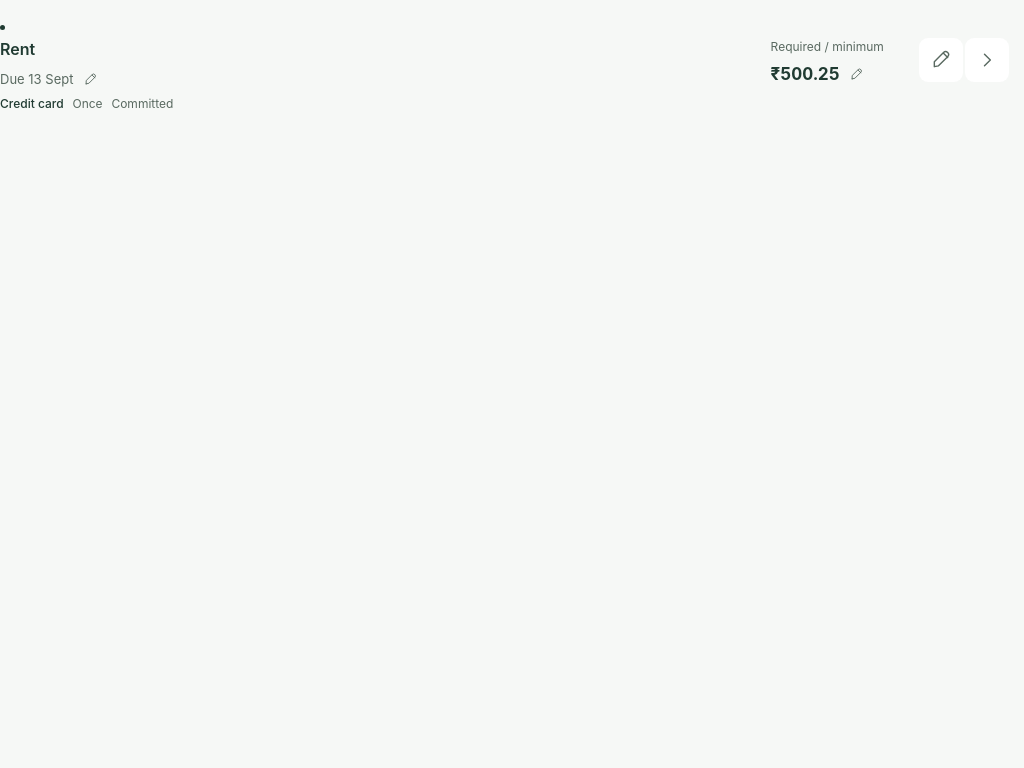
Test: keeps a debt minimum primary with absent target and outstanding in details
Check: the button named "Edit Rent required payment" reads "₹500.25", box [771,57,863,93]
Check: the text "₹25,000.99" is not shown
Click the button named "Details for Rent".
click(987, 60)  # box [965,38,1009,82]
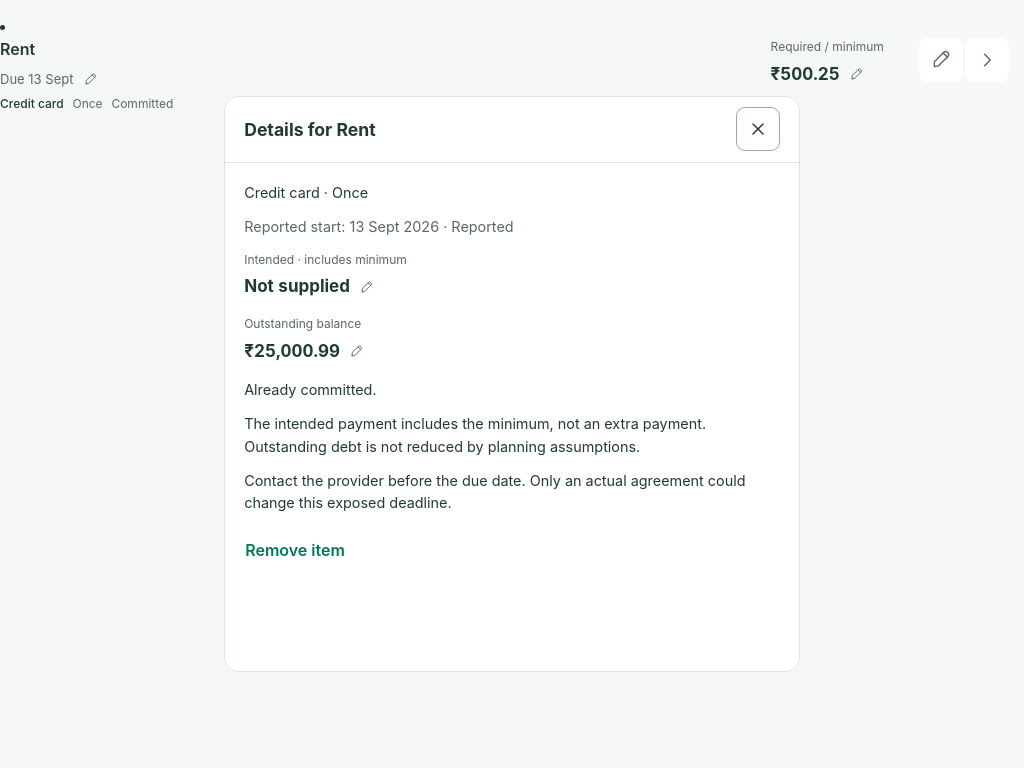
Check: the button named "Edit Rent outstanding" reads "₹25,000.99", box [244,333,363,369]
Check: the dialog "Details for Rent" shows "intended payment includes the minimum, not an extra payment", box [244,415,706,455]
Check: the dialog "Details for Rent" shows "Outstanding debt is not reduced by planning assumptions.", box [244,415,706,455]
